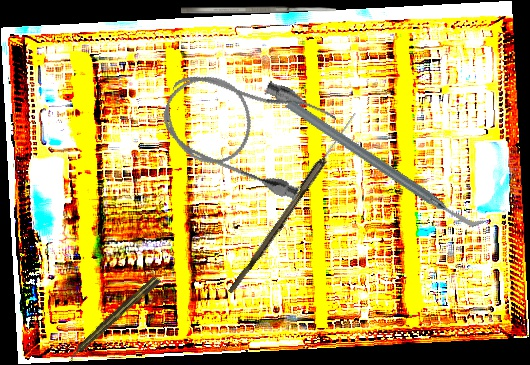Cannula: (150, 49, 341, 205)
Chopper: (284, 47, 488, 280)
Handpiece: (64, 273, 163, 364)
Spatula Surgical: (181, 6, 336, 14)
Surgical Spoon: (228, 109, 359, 297)
